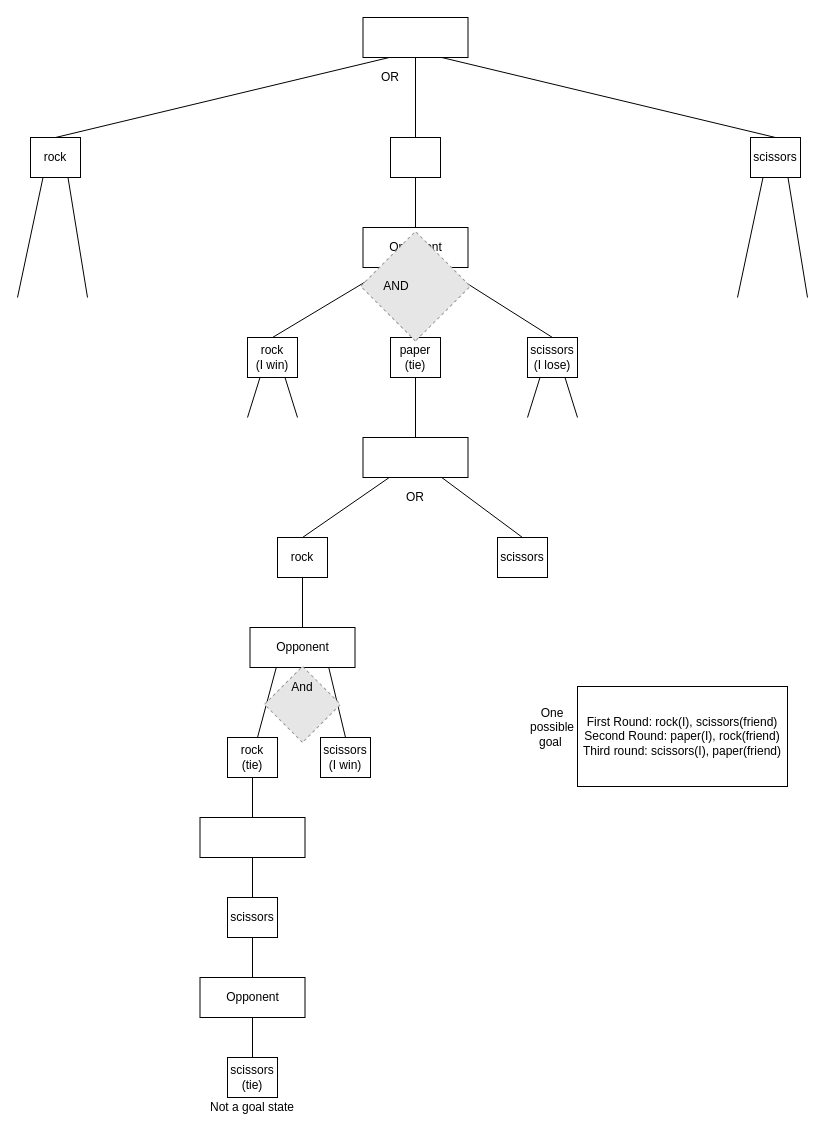
Image size: 826x1135. Some labels were removed from this diagram. Grey dashed boxes stand in for pictures. Each missing label, with the box of its shape:
First Round: (362, 16, 468, 58)
paper: (390, 136, 440, 178)
Second Round: (362, 436, 468, 478)
Third Round: (199, 816, 305, 858)
